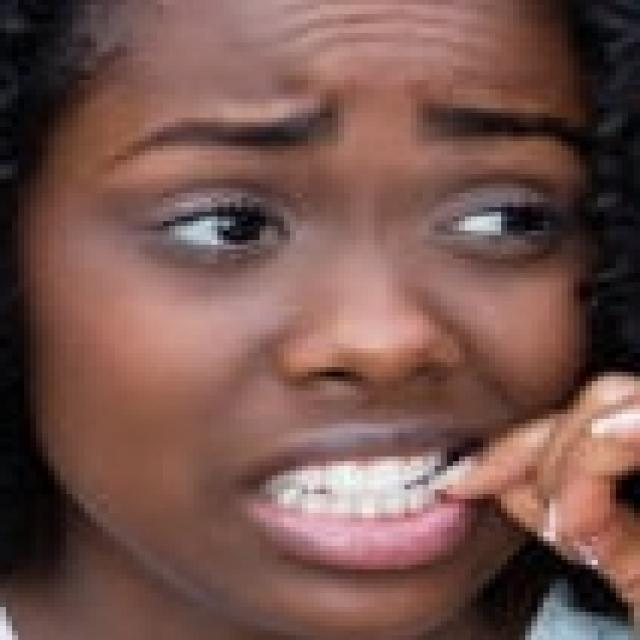Anxiety: (11, 0, 636, 634)
